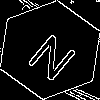N: (25, 25, 85, 84)
